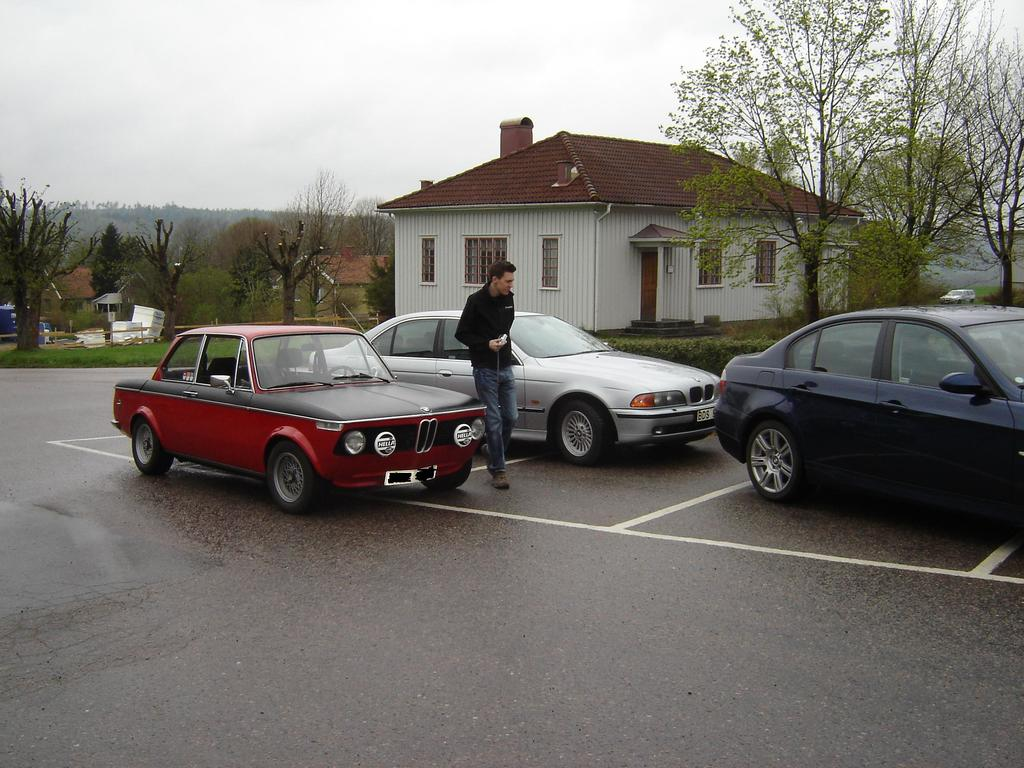Car: (113, 320, 488, 515), (707, 304, 1023, 528), (307, 304, 721, 463), (938, 284, 976, 302)
